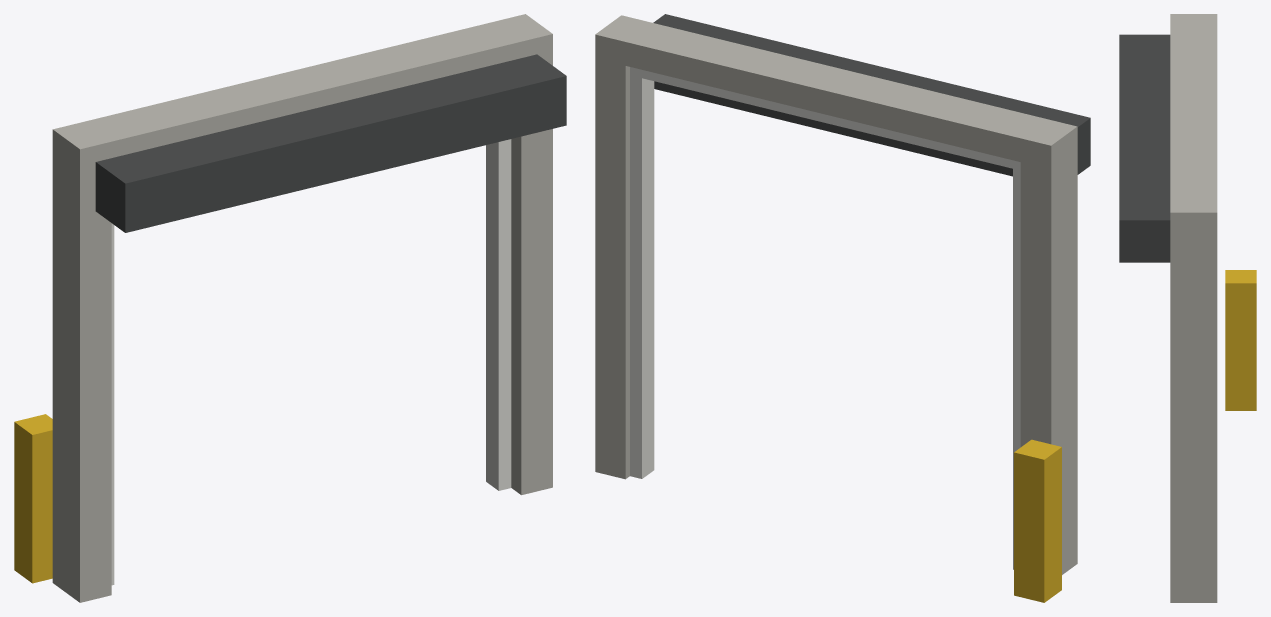
File: Kit_panel_bigdoor.fbx
The picture shows the model from 3 angles, left to right: view 1: azimuth 30°, elevation 25°; view 2: azimuth 150°, elevation 25°; view 3: azimuth 270°, elevation 25°; orthographic projection. The views are drawn at different scales.
Visible parts, largest first — view 1: ShutterBox, WallJambL, WallAbove, WallJambR, FrameR, Bollard, FrameL; view 2: WallJambL, WallAbove, WallJambR, FrameR, ShutterBox, Bollard, FrameTop, FrameL; view 3: WallJambR, ShutterBox, WallAbove, Bollard, WallJambL.
Part boxes in pixels (box(x1,y1,x2,y2)): ShutterBox: box(95, 54, 566, 232); WallJambL: box(52, 122, 111, 602); WallAbove: box(84, 22, 521, 157); WallJambR: box(494, 14, 552, 495); FrameR: box(486, 139, 511, 490); Bollard: box(14, 414, 52, 583); FrameL: box(111, 223, 114, 585); WallJambL: box(1020, 119, 1077, 574); WallAbove: box(625, 22, 1046, 161); WallJambR: box(595, 15, 651, 479); FrameR: box(630, 69, 654, 478); ShutterBox: box(653, 14, 1090, 176); Bollard: box(1014, 439, 1061, 602); FrameTop: box(630, 67, 1020, 170); FrameL: box(1013, 161, 1020, 569); WallJambR: box(1170, 199, 1217, 602); ShutterBox: box(1119, 34, 1170, 262); WallAbove: box(1170, 27, 1217, 199); Bollard: box(1225, 270, 1256, 410); WallJambL: box(1170, 14, 1217, 27).
Size of the model in its own units: 310 by 87.5 by 275.
